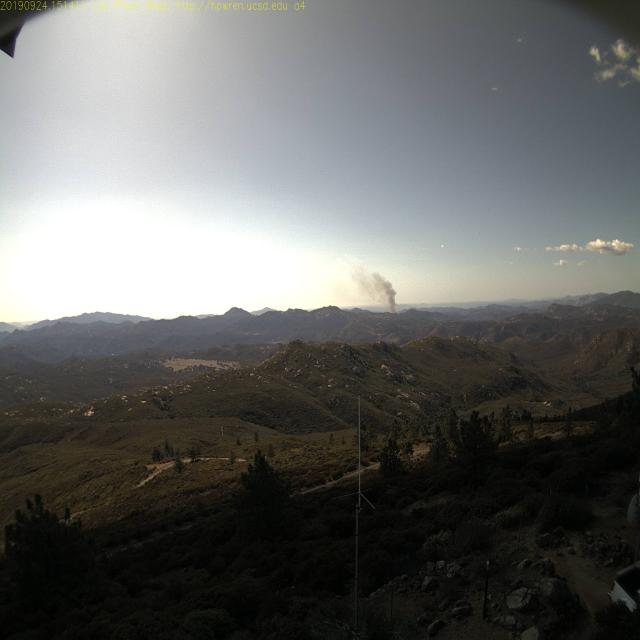smoke: (369, 278, 398, 314)
